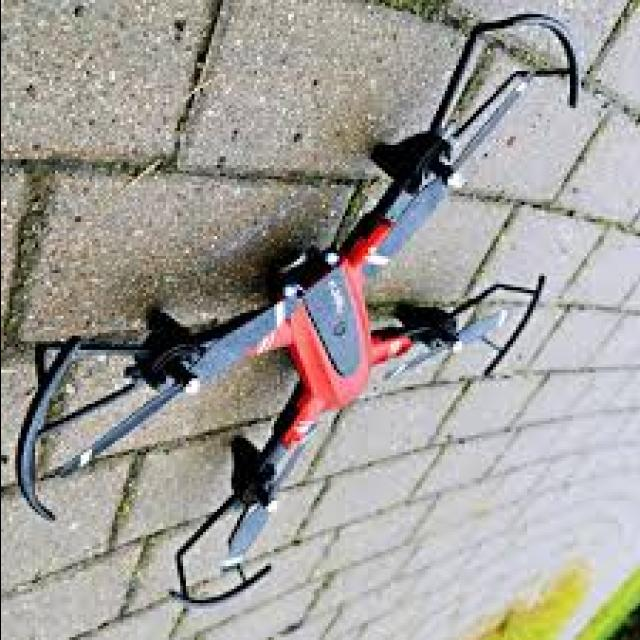drone: (0, 0, 603, 603)
